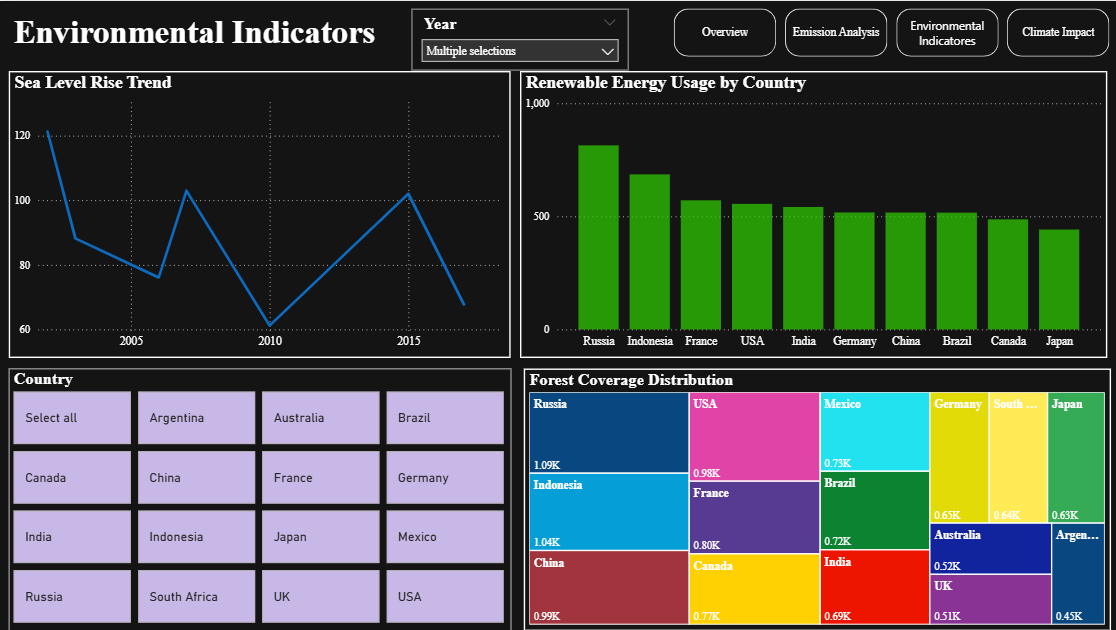

Layout of this report page (visuals, bound fields, positions):
{"tool":"powerbi","page":{"name":"Environmental Indicatores","canvas":[1280,720],"ordinal":2},"visuals":[{"type":"textbox","box":[0,8.6,444.3,61.4],"z":0},{"type":"clusteredColumnChart","title":"Renewable Energy Usage by Country","fields":{"Category":["climate_change_dataset.Country"],"Y":["Sum(climate_change_dataset.Renewable Energy (%))"]},"box":[594.2,79.6,671,328],"z":1000},{"type":"lineChart","title":"Sea Level Rise Trend","fields":{"Category":["climate_change_dataset.Year"],"Y":["Sum(climate_change_dataset.Sea Level Rise (mm))"]},"box":[9.6,79.6,573.6,328],"z":2000},{"type":"treemap","title":"Forest Coverage Distribution","fields":{"Group":["climate_change_dataset.Country"],"Values":["Sum(climate_change_dataset.Forest Area (%))"]},"box":[598.6,420,671.4,300],"z":3000},{"type":"pageNavigator","box":[769.3,8.6,500.6,55.2],"z":4000},{"type":"advancedSlicerVisual","fields":{"Values":["climate_change_dataset.Country"]},"box":[10,420,574.3,300],"z":4001},{"type":"slicer","fields":{"Values":["climate_change_dataset.Year"]},"box":[470,8.6,248.6,71.4],"z":4002}]}

Visuals, with their boxes in screenshot pixels (x1, y1, x2, y2), scaled from the page's 1280x720 canvas onto the 1116x630 screenshot:
textbox: bbox(0, 8, 387, 61)
"Renewable Energy Usage by Country" clusteredColumnChart: bbox(518, 70, 1103, 357)
"Sea Level Rise Trend" lineChart: bbox(8, 70, 508, 357)
"Forest Coverage Distribution" treemap: bbox(522, 368, 1107, 629)
pageNavigator: bbox(671, 8, 1107, 56)
advancedSlicerVisual - climate_change_dataset.Country: bbox(9, 368, 509, 629)
slicer - climate_change_dataset.Year: bbox(410, 8, 627, 70)
